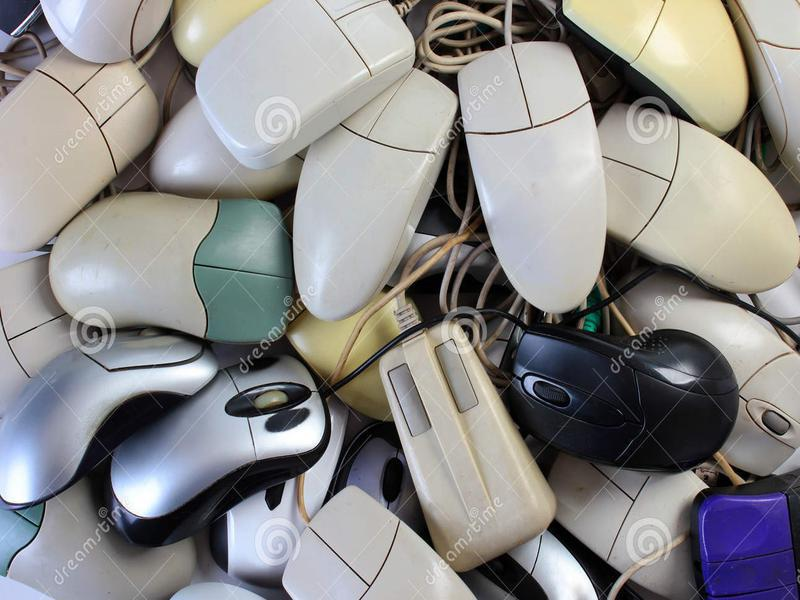mouse: (89, 348, 333, 555), (452, 38, 618, 316), (284, 67, 460, 327), (47, 191, 308, 357), (1, 326, 224, 516), (180, 1, 427, 165), (598, 96, 800, 294), (506, 316, 742, 476), (4, 41, 169, 256)
